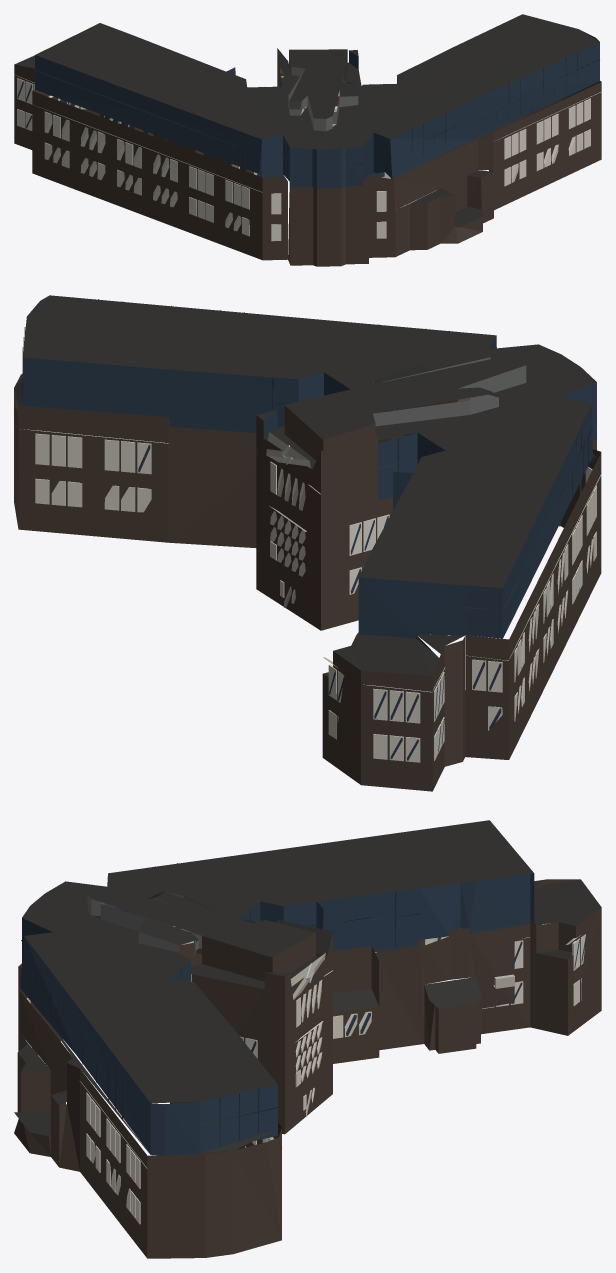
The model's file is generator-mauritskade.lod1.glb.
3 views of the same model, one above another, from view 1: azimuth 30°, elevation 25°; view 2: azimuth 150°, elevation 25°; view 3: azimuth 270°, elevation 25° (orthographic). The views are drawn at different scales.
Parts seen in each view (by area): view 1: generator-mauritskade; view 2: generator-mauritskade; view 3: generator-mauritskade.
Boxes of the visible parts, left/top/right/bottom form: generator-mauritskade: left=14, top=14, right=601, bottom=266; generator-mauritskade: left=14, top=295, right=601, bottom=791; generator-mauritskade: left=14, top=820, right=601, bottom=1258.
Size of the model in its own units: 67.52 by 18.94 by 58.6.
